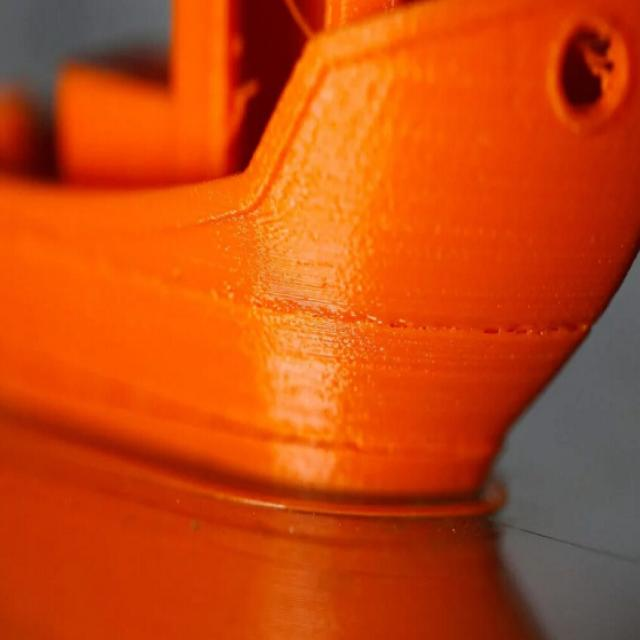Warping: (356, 286, 606, 363)
